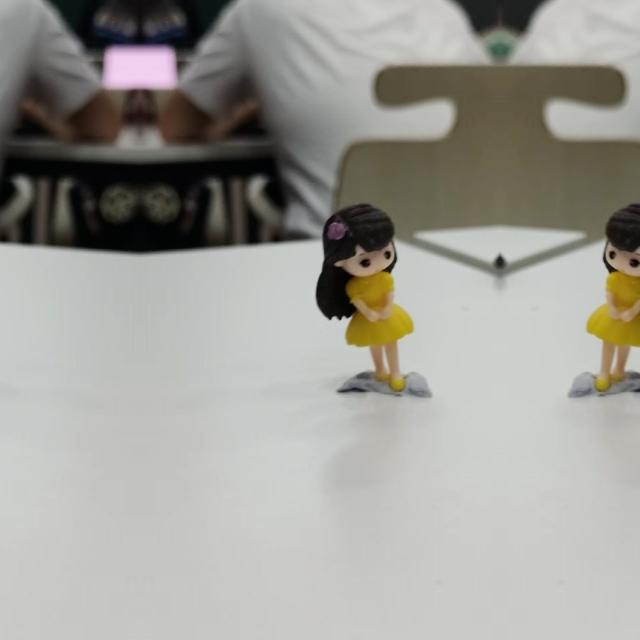woman head: (317, 200, 397, 278), (603, 200, 640, 278)
